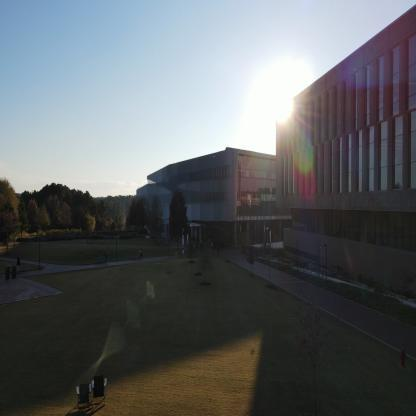Fitts- Woolard: (278, 2, 415, 336)
Hunt Library: (130, 136, 274, 276)
